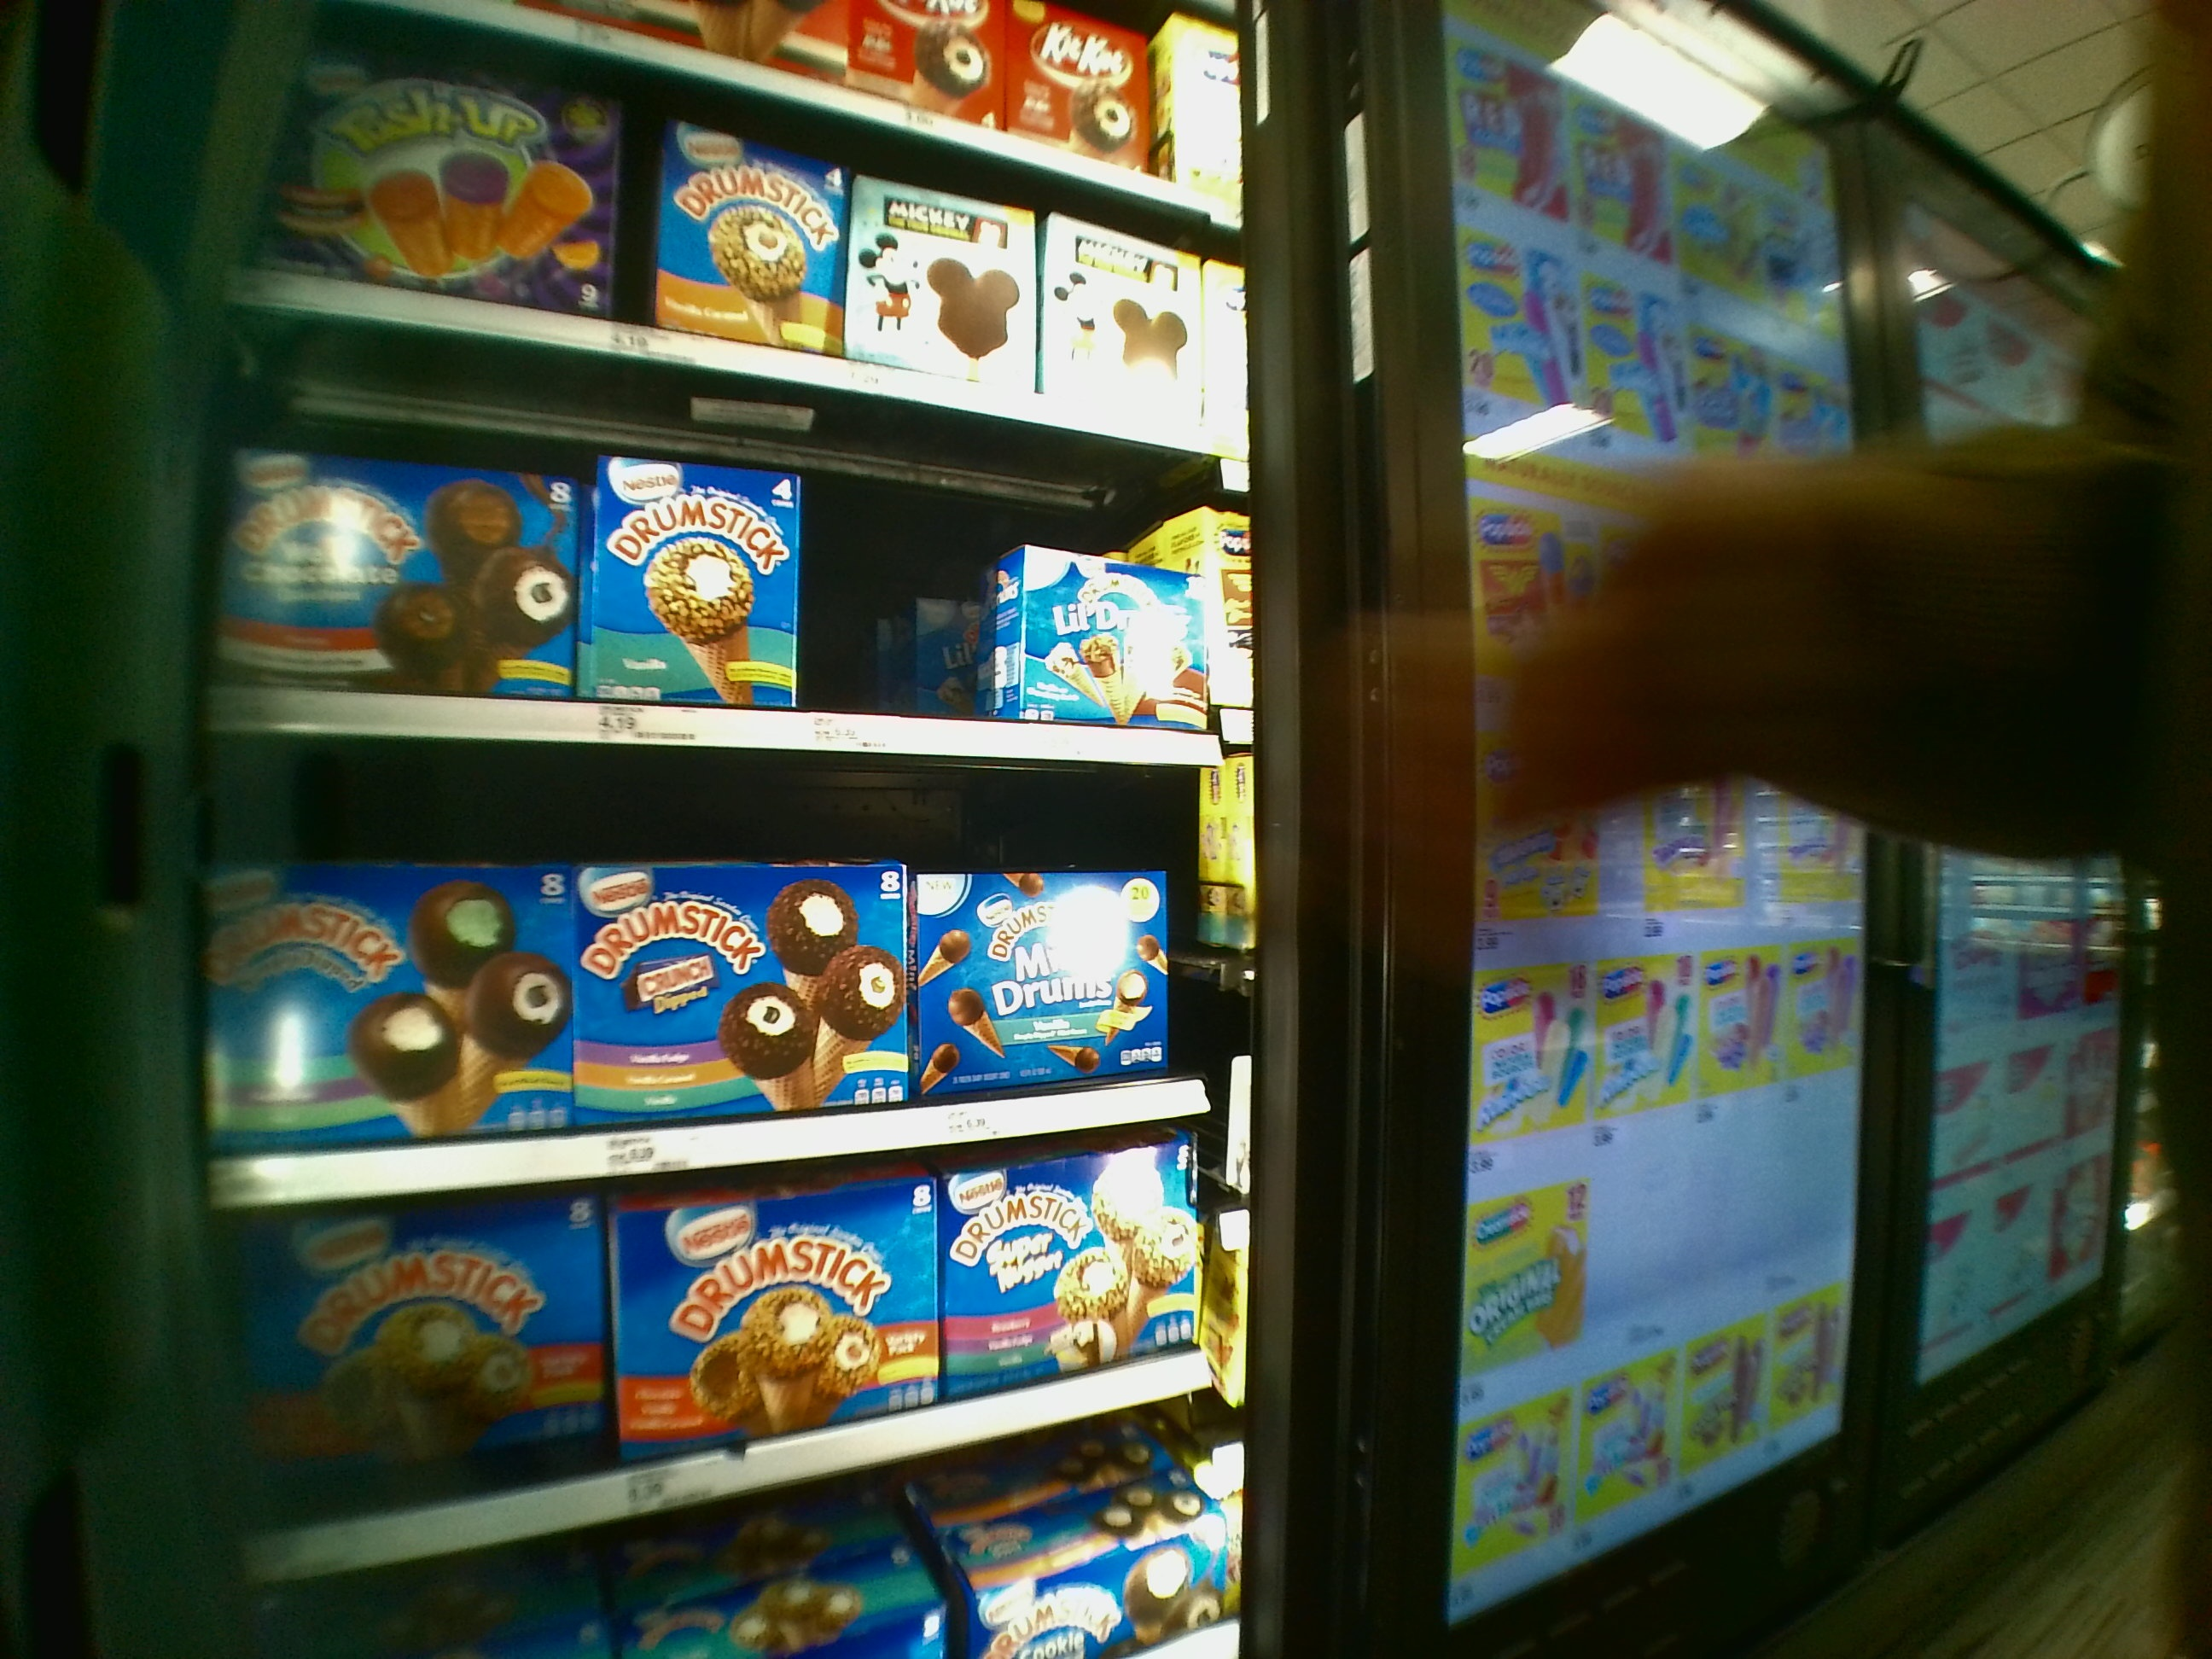shelf: (209, 758, 1256, 1190), (202, 403, 1238, 758), (212, 1148, 1249, 1499)
